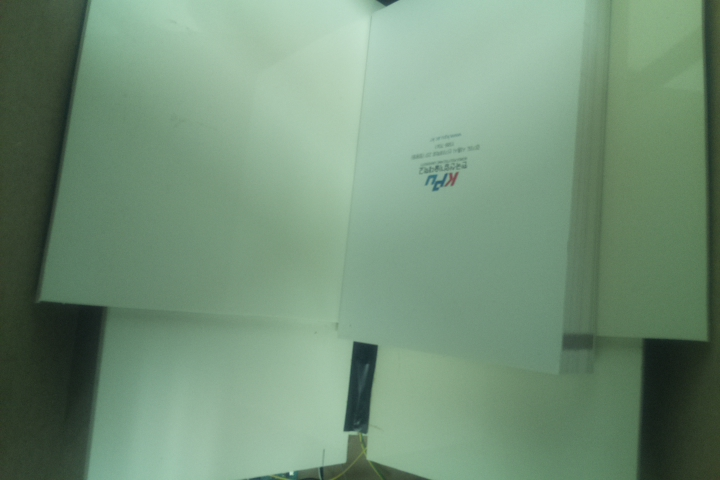book: (341, 1, 612, 380)
